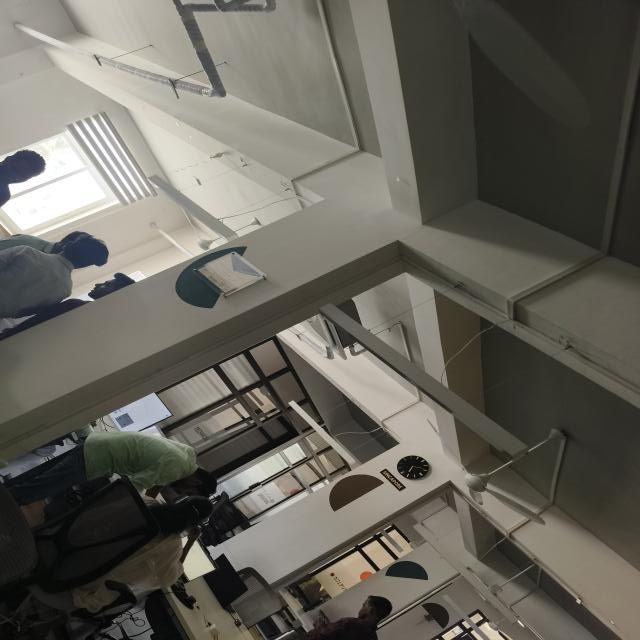fluorescent tube: (313, 290, 539, 476), (410, 517, 530, 632), (144, 159, 242, 272), (283, 384, 362, 470)
